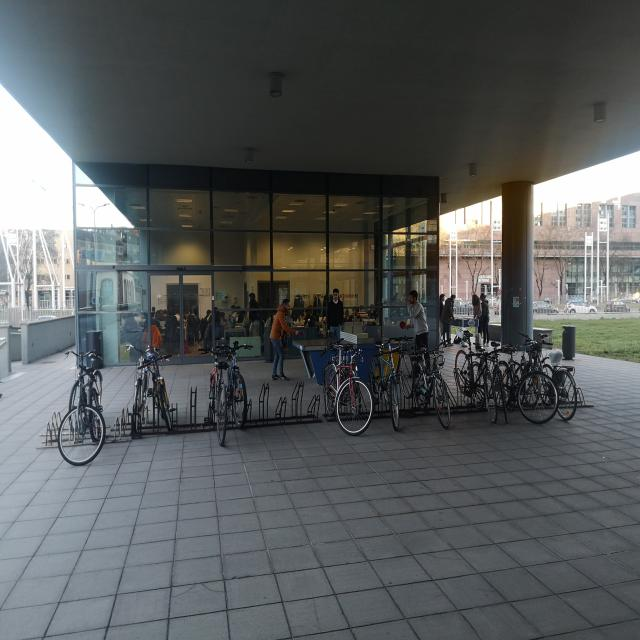Bicycle: (54, 346, 103, 484), (319, 323, 370, 454), (538, 311, 582, 431), (405, 341, 453, 438), (144, 332, 178, 454), (509, 330, 548, 435), (125, 333, 152, 475), (202, 343, 233, 466), (455, 315, 489, 422), (376, 325, 404, 433), (485, 321, 512, 418), (220, 342, 245, 428)
